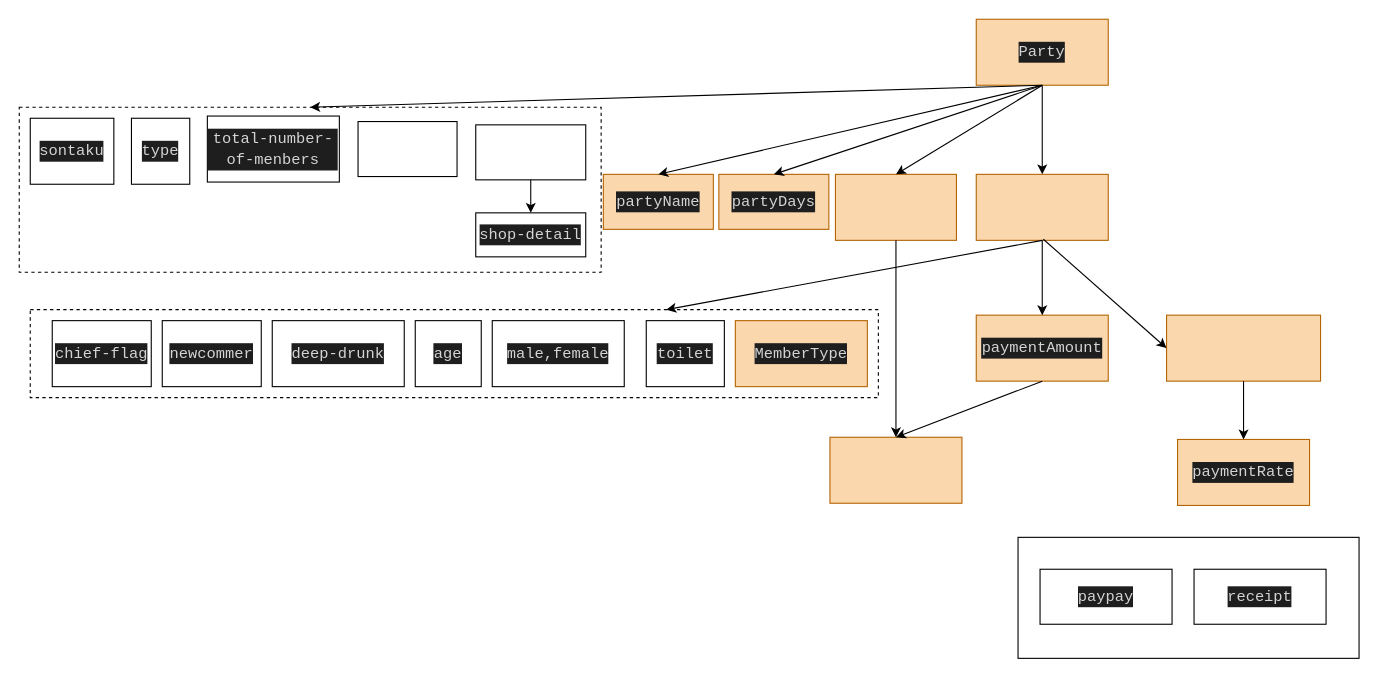
This 1378x678 diagram has some shape labels left out. The shapes that lost their labels are listed below. From the top down, each one's box as (x1, y1, x2, y2) in pixels, then its label:
(357, 120, 457, 177): approval-paper
(475, 124, 586, 180): shop-name
(834, 173, 956, 240): billingAmount
(975, 173, 1108, 240): Member
(1165, 314, 1321, 381): PaymentCategory
(829, 436, 962, 503): money
(1017, 536, 1359, 658): スコープ外
